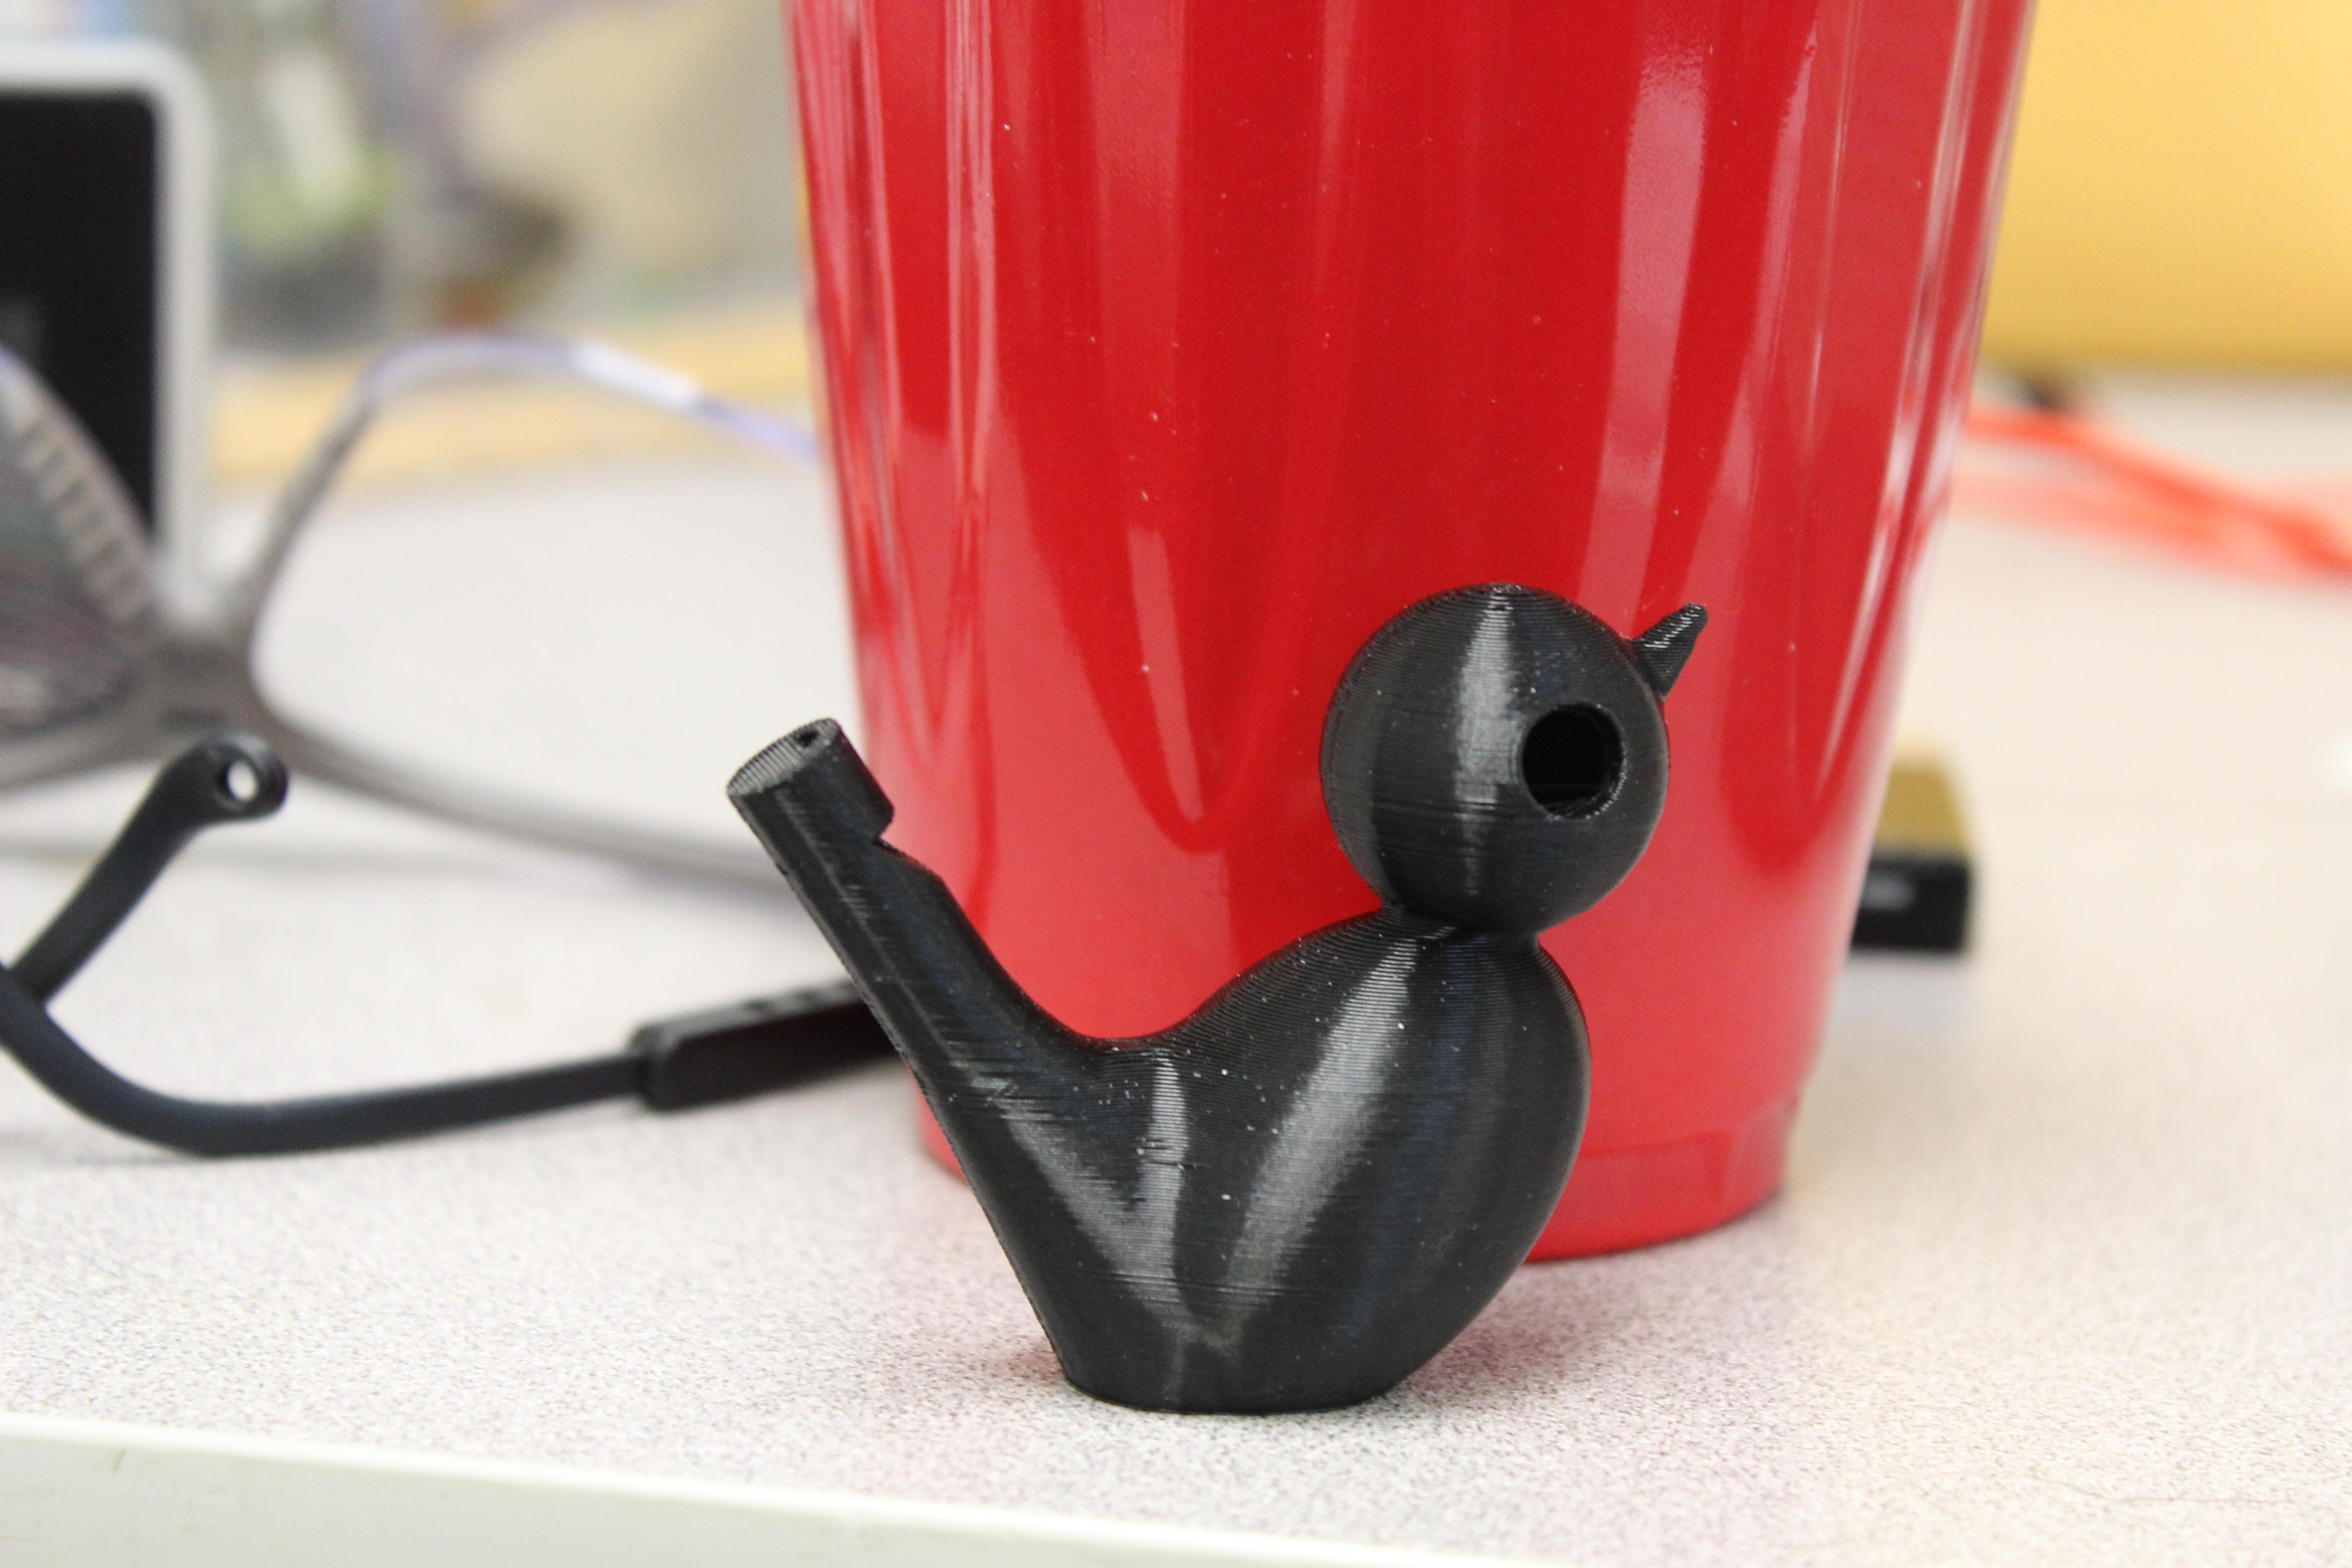birdCall: (667, 546, 1824, 1458)
